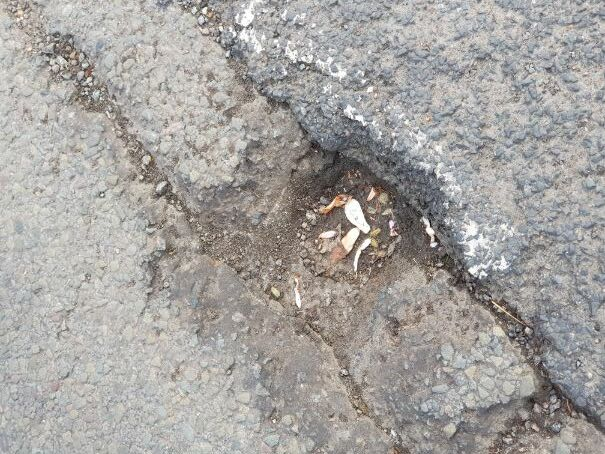pothole: (140, 73, 503, 346)
